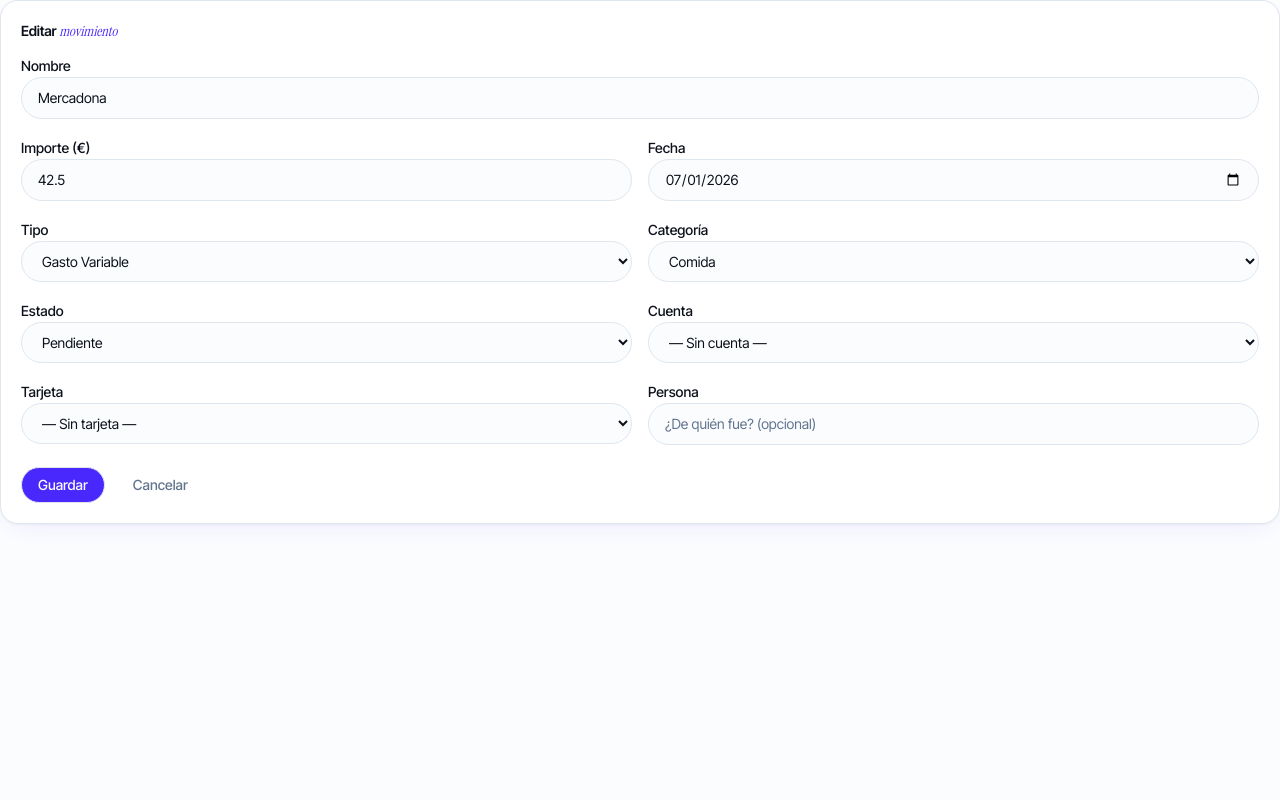
Test: EditarMovimiento › muestra el error si la acción falla
The image size is (1280, 800).
Click the button "Guardar". click: (63, 485)
box: [21,467,105,503]
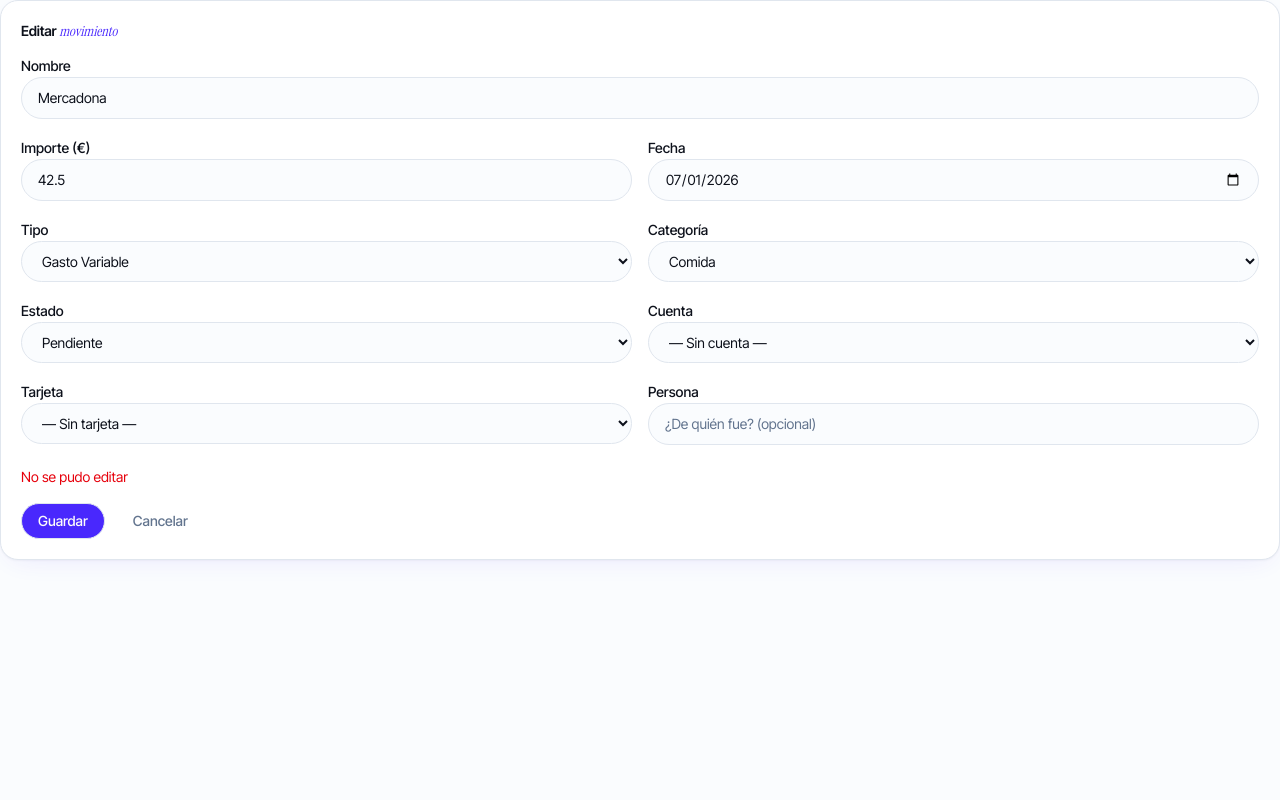
Expected: the text "No se pudo editar" is shown, [21,468,128,485]
